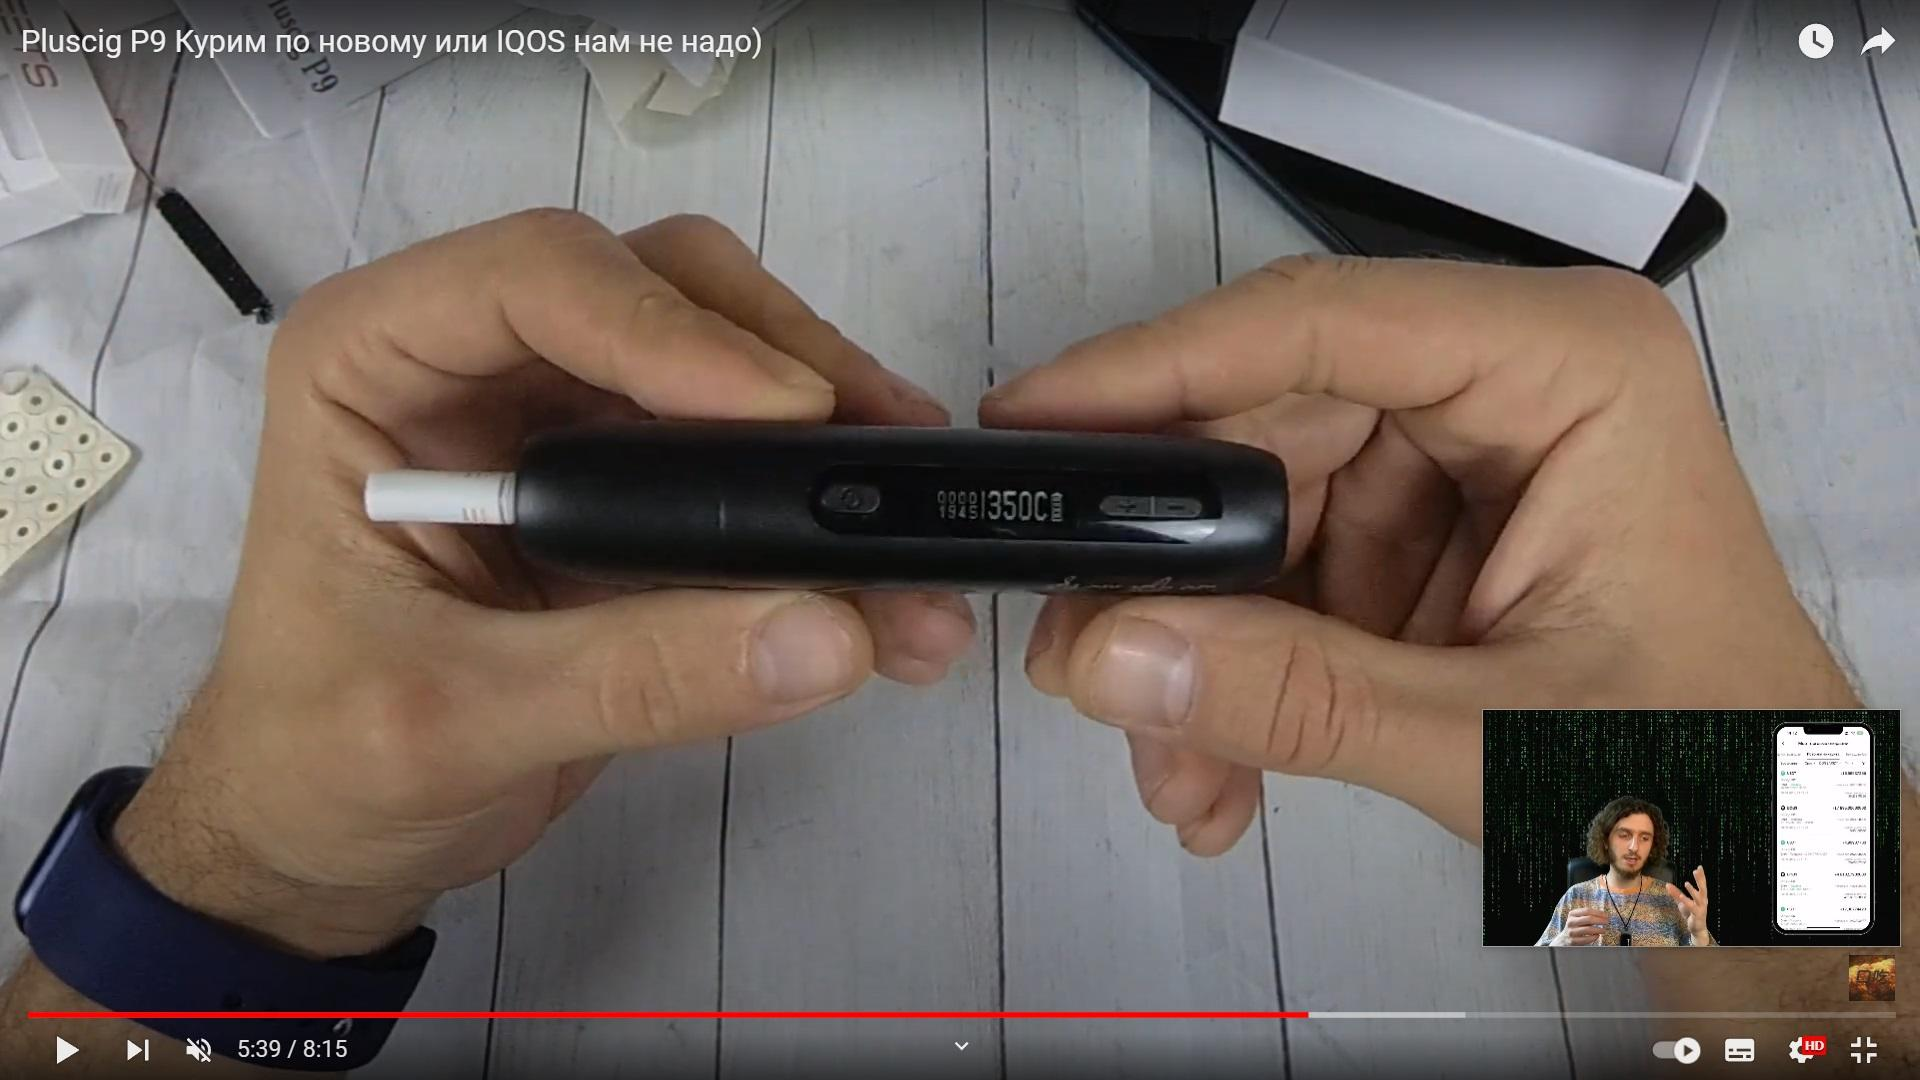iqos: (367, 422, 1288, 592)
